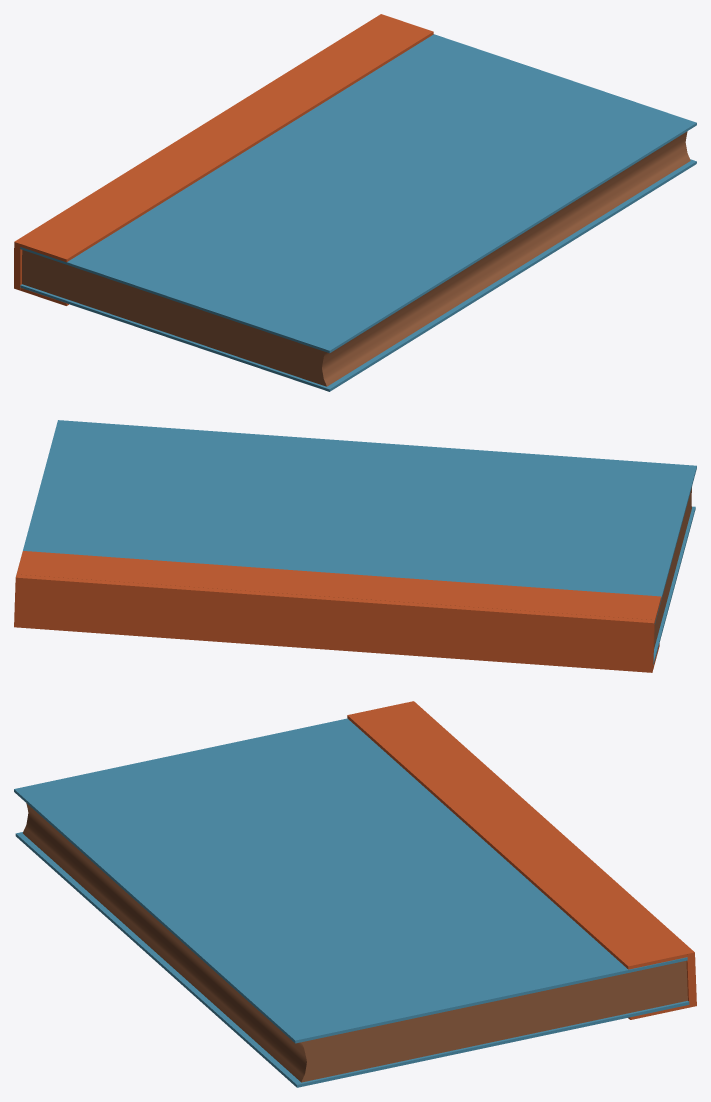
File: bookgirl.fbx
The picture shows the model from 3 angles, top to bottom: view 1: azimuth 30°, elevation 25°; view 2: azimuth 150°, elevation 25°; view 3: azimuth 270°, elevation 25°; orthographic projection. The views are drawn at different scales.
Visible parts, largest first — view 1: polySurface31; view 2: polySurface31; view 3: polySurface31.
Part boxes in pixels (left/top/right/bottom): polySurface31: left=14, top=14, right=696, bottom=391; polySurface31: left=14, top=420, right=696, bottom=672; polySurface31: left=14, top=701, right=696, bottom=1087.
Size of the model in its own units: 8.06 by 0.8482 by 6.75.
